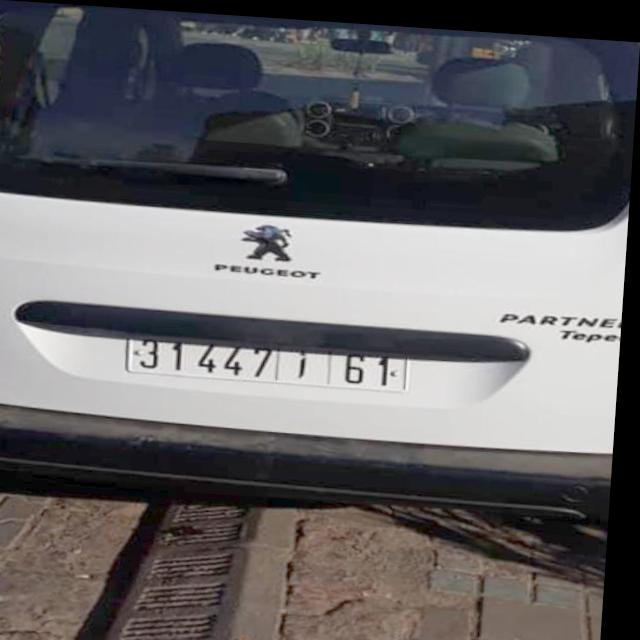License-Plate: (131, 337, 414, 387)
